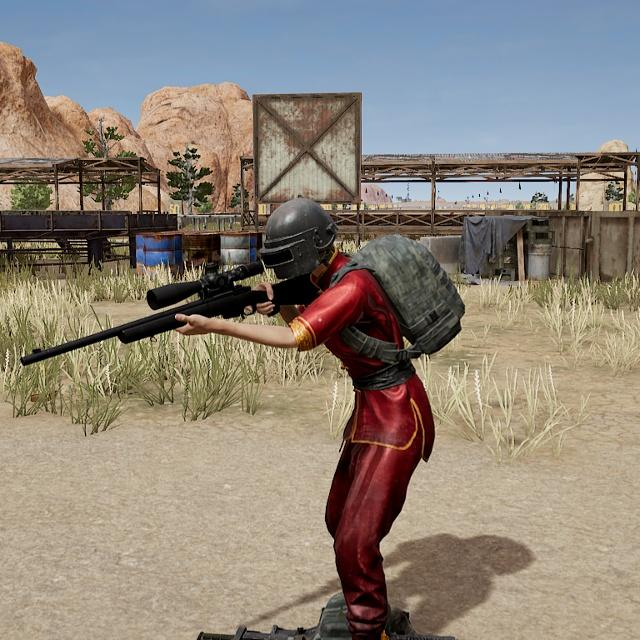head: (253, 195, 346, 291)
people: (231, 189, 452, 640)
